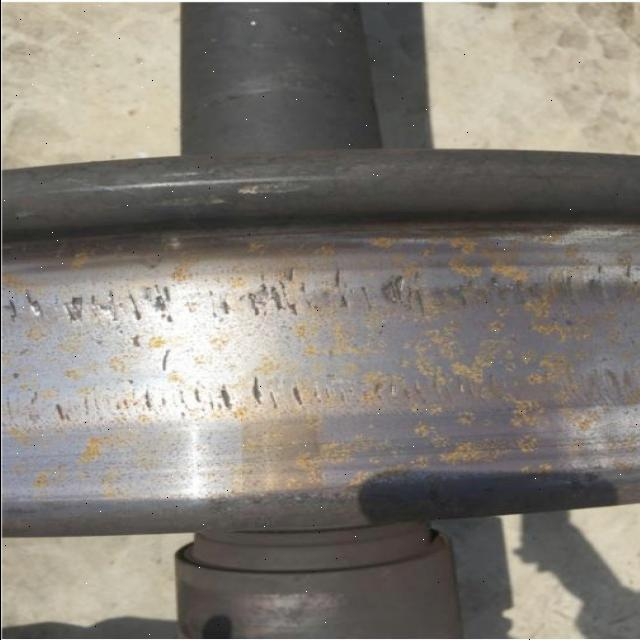hot crack: (18, 368, 462, 436), (13, 266, 457, 328)
